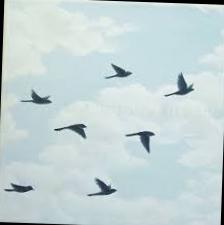bird: (158, 65, 197, 105), (116, 124, 160, 152), (45, 116, 94, 140), (82, 169, 119, 200), (96, 54, 136, 82), (14, 80, 54, 106)
